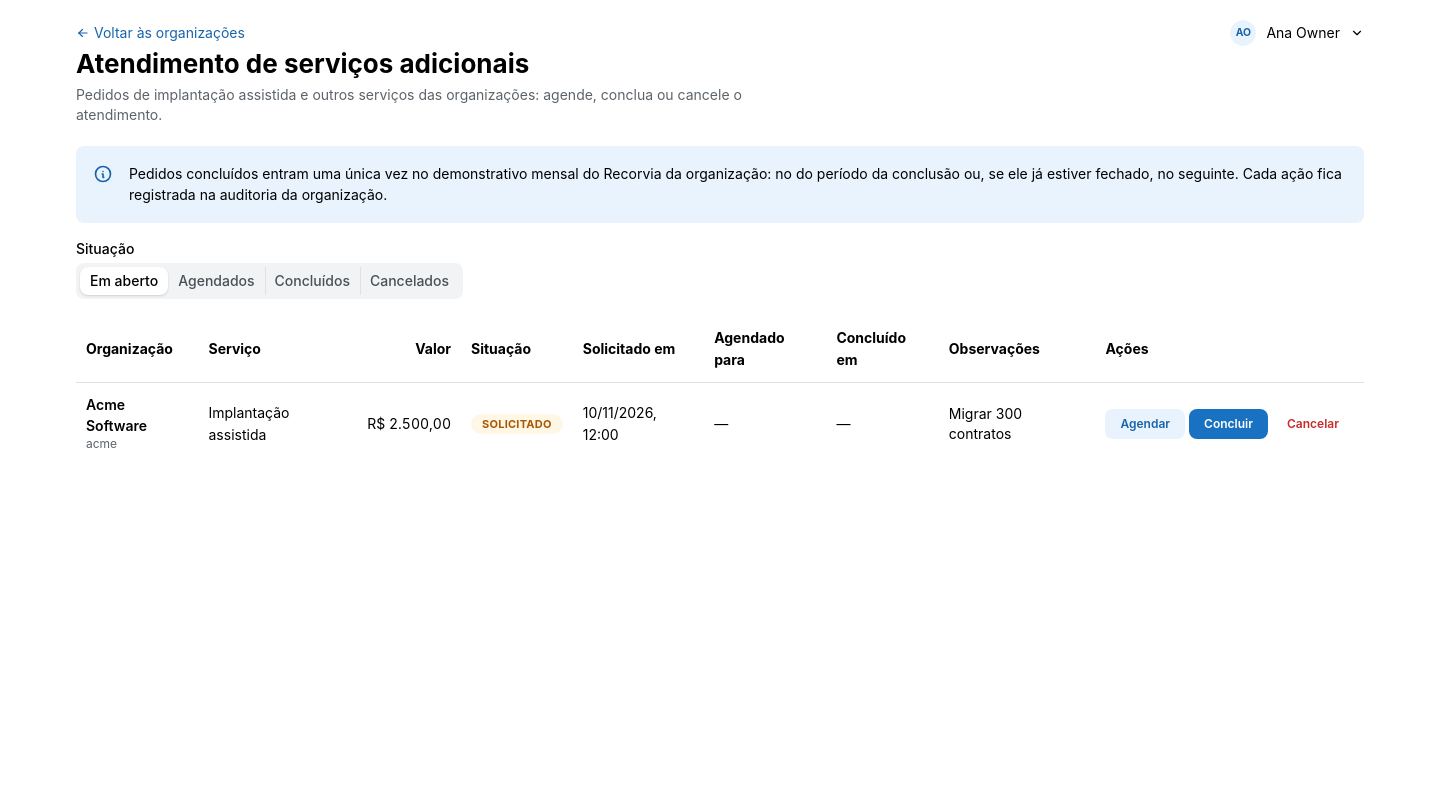
Test: atendimento de serviços adicionais › agenda o atendimento enviando o instante em UTC, com CSRF e sem organização
Click the button with aria-label "Agendar Acme Software" at {"x": 1145, "y": 424}, box [1106,409,1185,439]
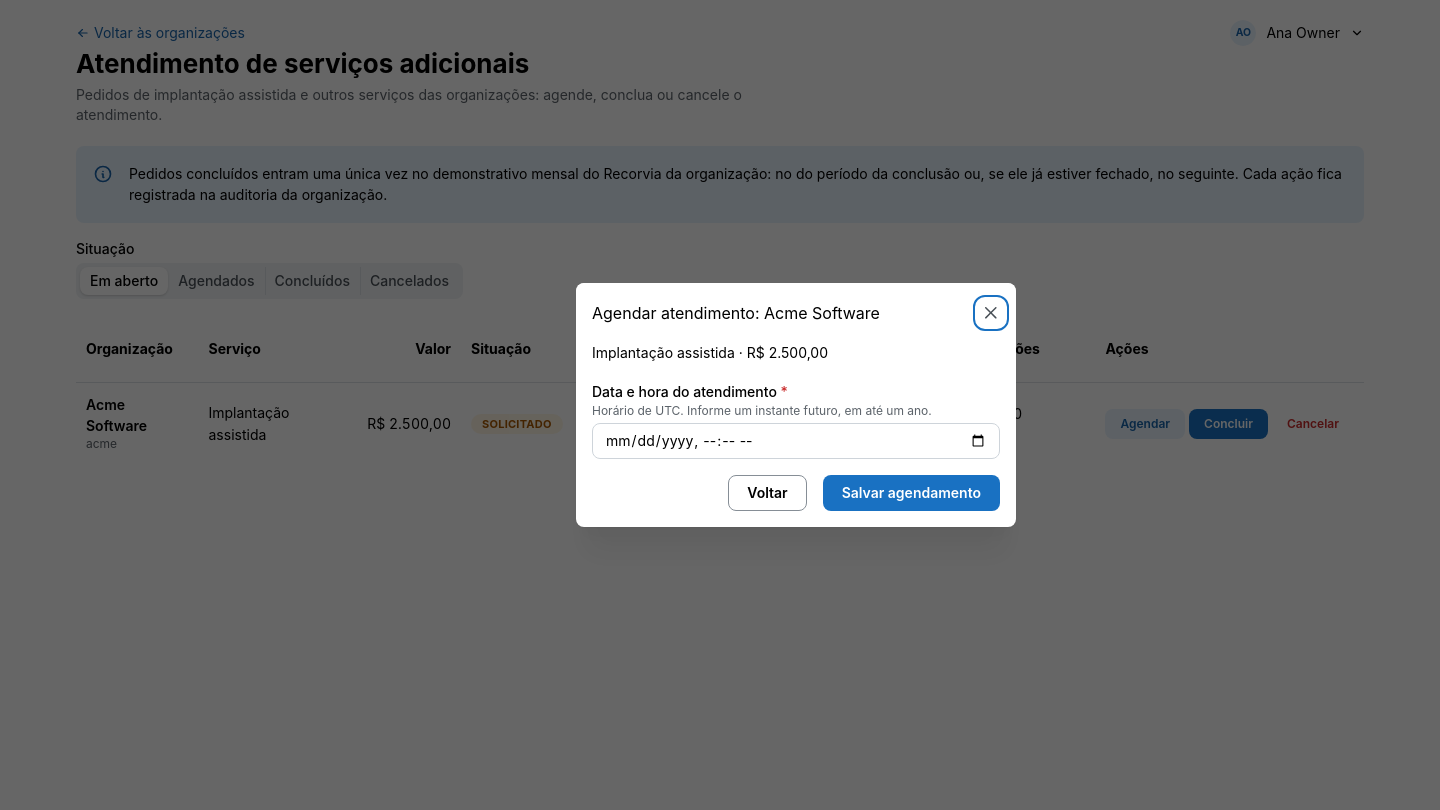
Click the button "Salvar agendamento" at {"x": 911, "y": 493}, box [823,475,1000,511]
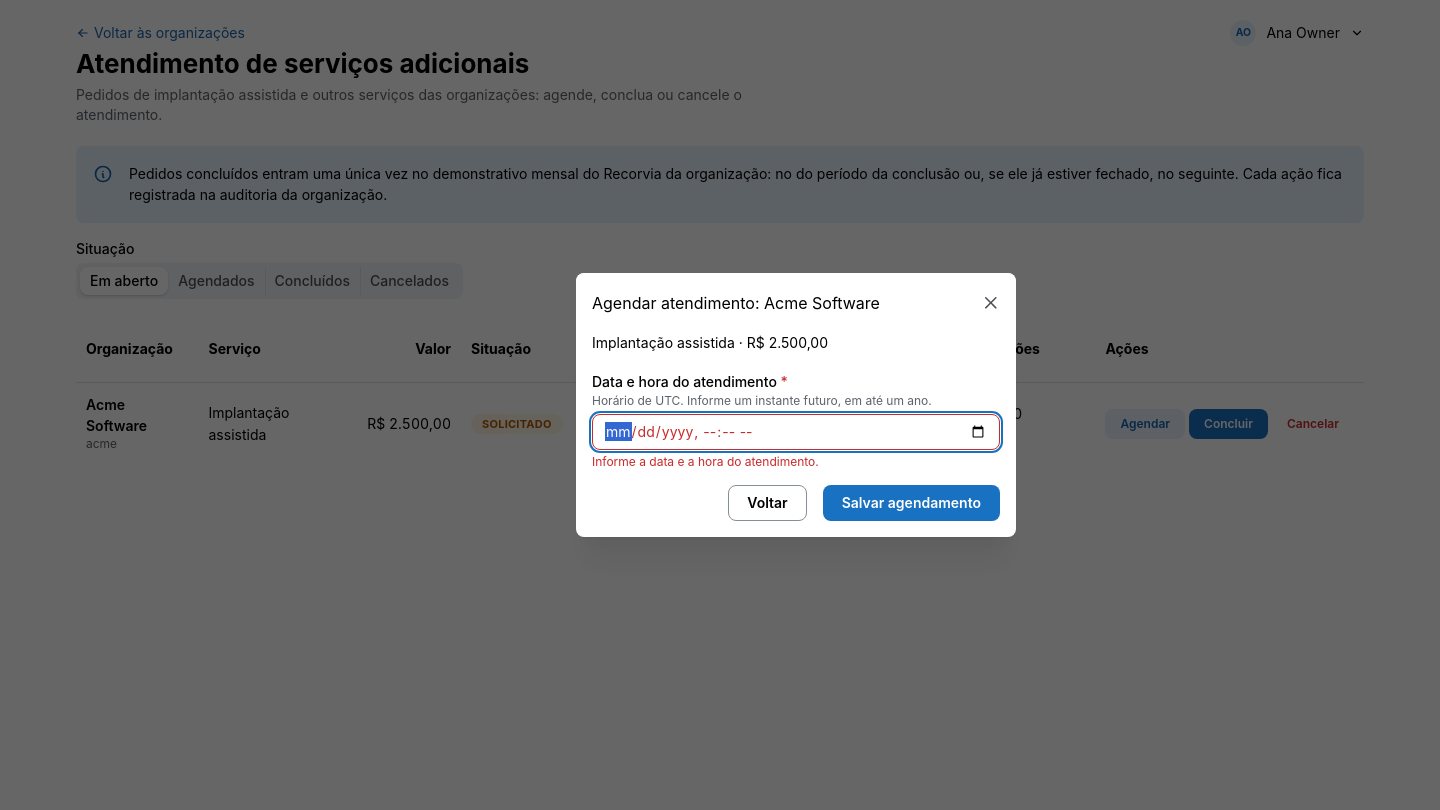
Now the text "Informe a data e a hora do atendimento." is shown, box [592,454,819,468]
Type "2026-11-25T10:00" into the field labelled "Data e hora do atendimento *" at {"x": 796, "y": 432}, box [592,414,1000,450]
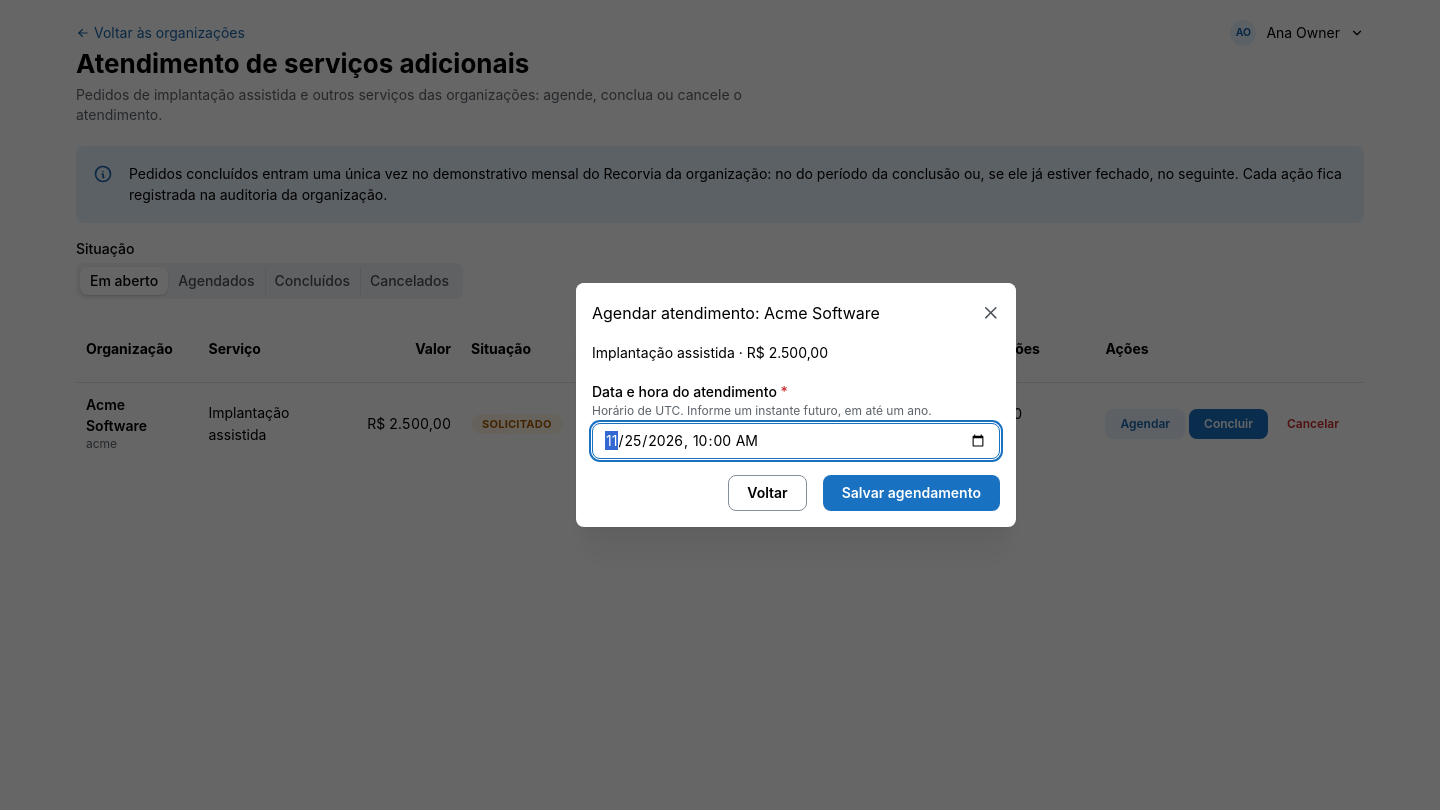
Click the button "Salvar agendamento" at {"x": 911, "y": 493}, box [823,475,1000,511]
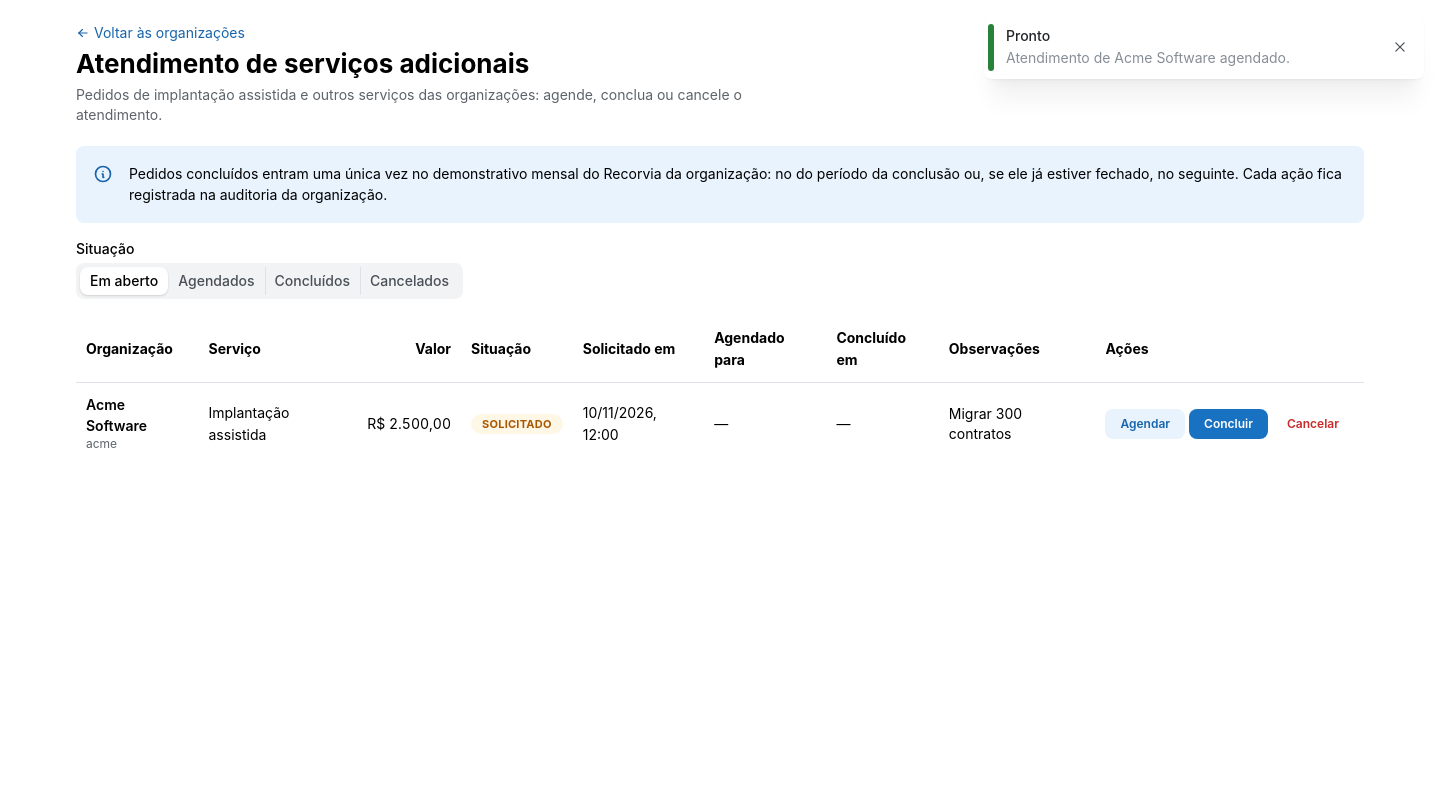
Now the text "Atendimento de Acme Software agendado." is shown, box [1006,49,1290,66]
Now the dialog is gone
